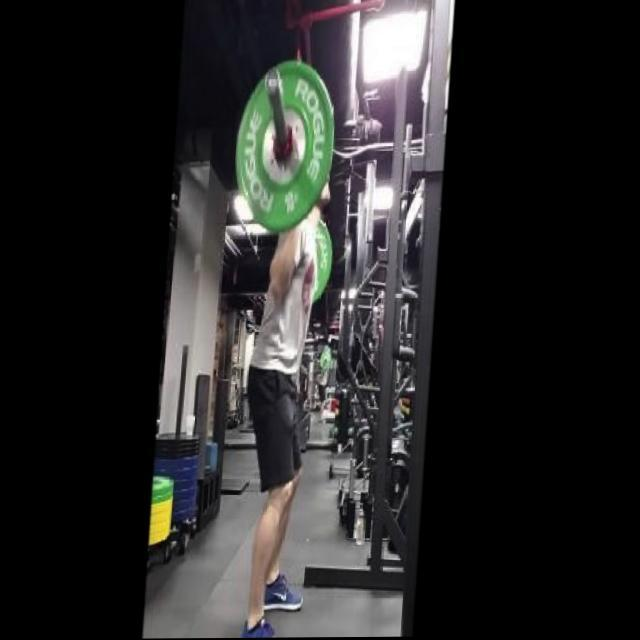barbell: (217, 57, 344, 235)
